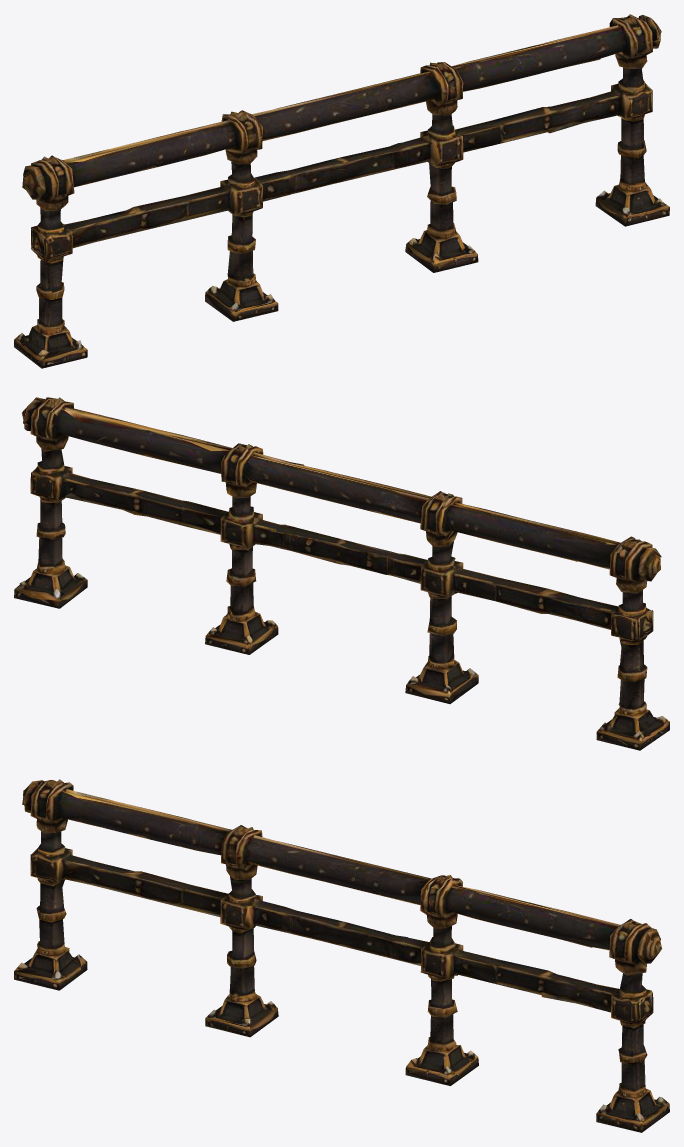
Rendered from handrail.glb.
3 views of the same model, one above another, from view 1: azimuth 30°, elevation 25°; view 2: azimuth 150°, elevation 25°; view 3: azimuth 330°, elevation 25° (orthographic).
Visible parts, largest first — view 1: handrail; view 2: handrail; view 3: handrail.
Boxes of the visible parts, x1,y1,x2,y2 form: handrail: (14,14,669,368); handrail: (14,397,669,750); handrail: (14,779,669,1132).
Bounding box in the file's own units: 3 × 0.8709 × 0.2456.
Materials: 1 (1 with a texture image).
